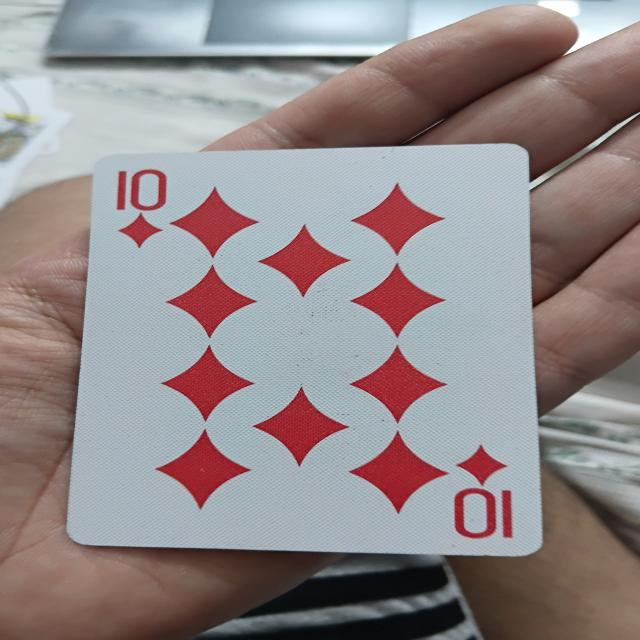10D: (67, 144, 540, 555)
